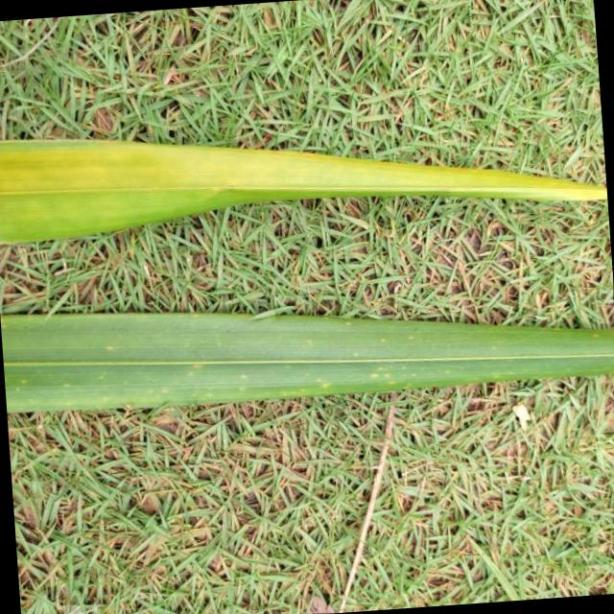nitrogen: (0, 130, 614, 250), (0, 305, 614, 416)
